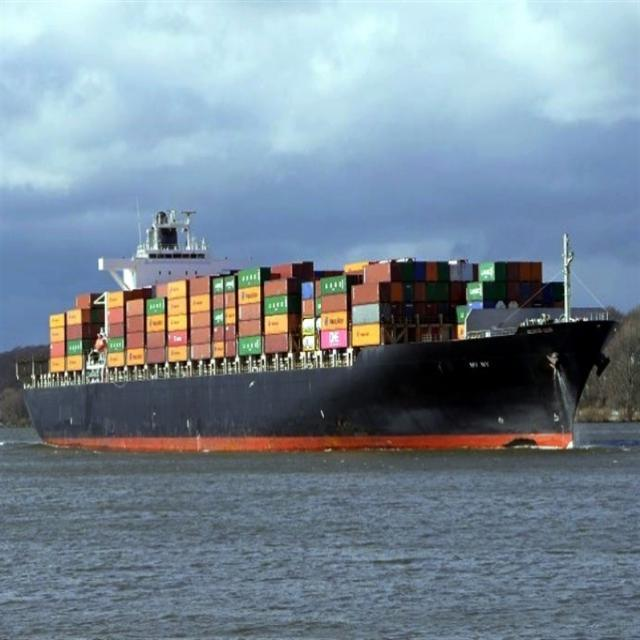Cargo: (23, 211, 615, 451)
